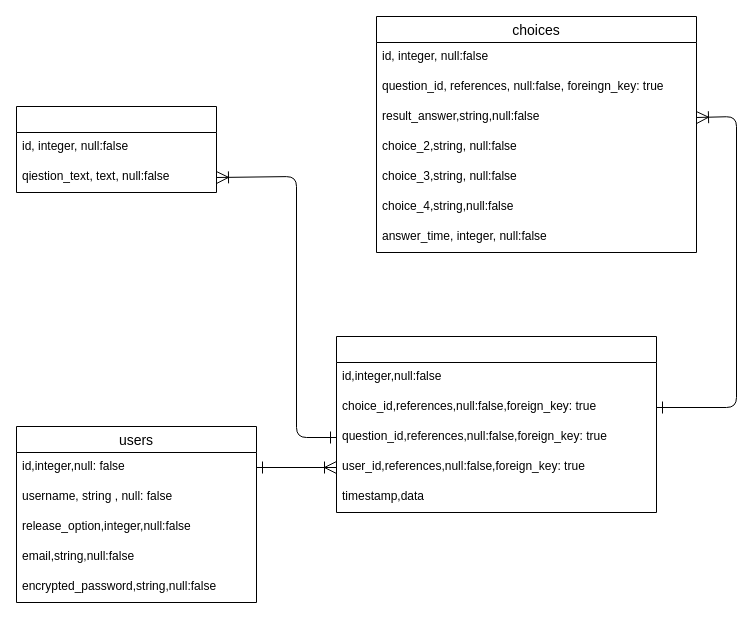
Some shapes in this 753 by 619 pixel diagram are drawn without their labels. Here are the shapes that lost their labels. From the top down, the box of each, then its label:
(16, 106, 216, 192): questions
(336, 336, 656, 512): answers
